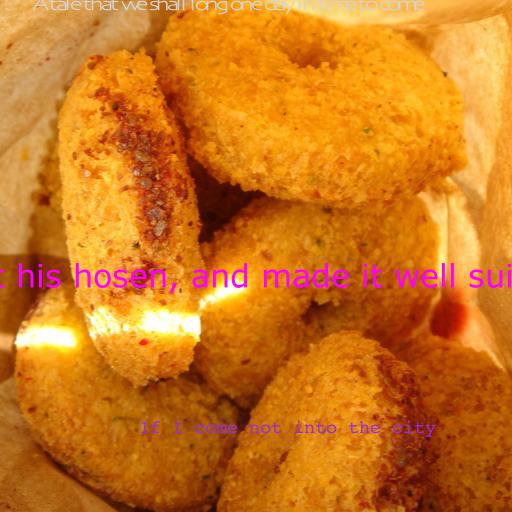Courier: (138, 420, 436, 437)
Skia: (32, 0, 422, 15)
Verdana: (0, 263, 512, 294)
